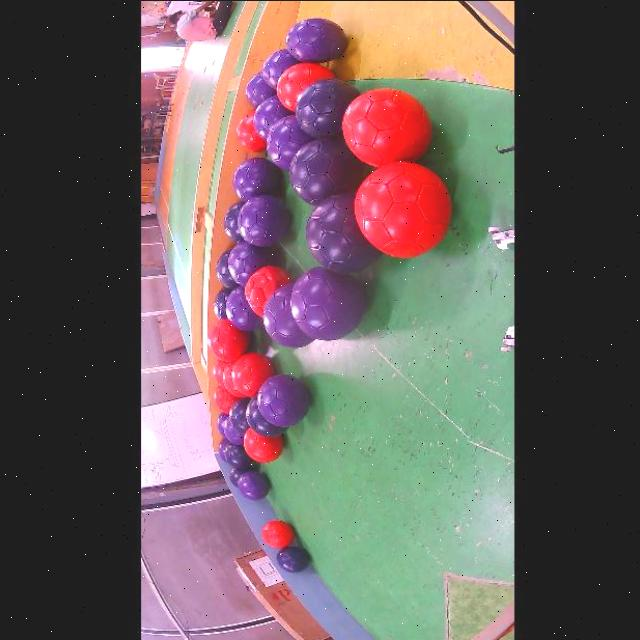B: (305, 192, 379, 273), (288, 139, 362, 205), (295, 78, 358, 138), (245, 397, 287, 436), (275, 545, 309, 573), (222, 200, 244, 242), (216, 249, 238, 288), (223, 442, 253, 468), (229, 397, 249, 434), (212, 287, 231, 319), (229, 466, 251, 487)
P: (291, 266, 365, 340), (262, 283, 313, 348), (256, 374, 310, 427), (286, 17, 347, 62), (236, 195, 290, 245), (266, 114, 313, 169), (231, 157, 281, 201), (227, 240, 274, 286), (252, 95, 293, 139), (225, 286, 262, 331), (262, 48, 299, 88), (245, 71, 275, 106), (236, 470, 269, 500), (222, 417, 242, 444), (217, 438, 229, 462), (216, 412, 227, 438)
R: (353, 161, 451, 257), (342, 87, 431, 166), (275, 62, 333, 110), (244, 265, 292, 316), (231, 352, 275, 397), (206, 318, 248, 361), (243, 429, 283, 462), (235, 110, 265, 152), (261, 519, 294, 548), (222, 361, 244, 397), (213, 386, 239, 413), (212, 360, 227, 387)
